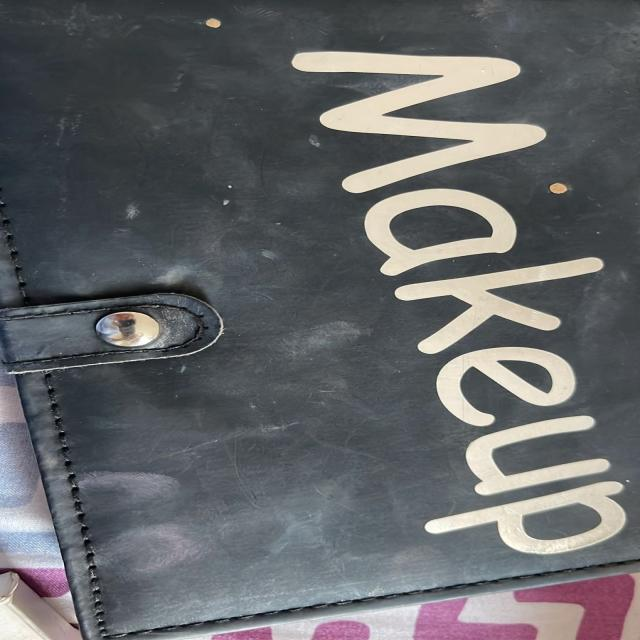makeup: (8, 0, 640, 640)
